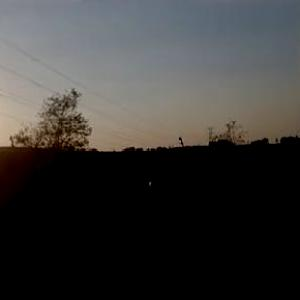follow: (134, 172, 186, 299)
